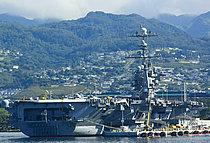MIL_Ship: (8, 24, 194, 135)
